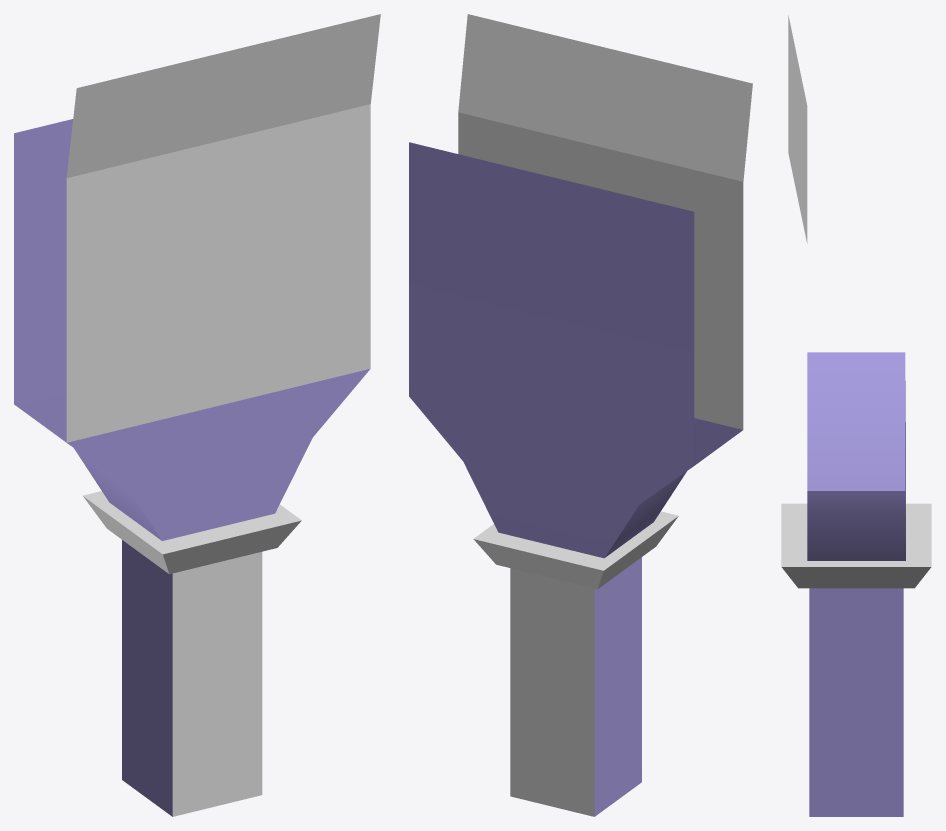
File: ArchCollider.fbx
3 views of the same model, side by side, from view 1: azimuth 30°, elevation 25°; view 2: azimuth 150°, elevation 25°; view 3: azimuth 270°, elevation 25° (orthographic). The views are drawn at different scales.
Parts seen in each view (by area): view 1: Arch Middle v2 collider; view 2: Arch Middle v2 collider; view 3: Arch Middle v2 collider.
Part boxes in pixels (x1,y1,x2,y2): Arch Middle v2 collider: (14,14,380,816); Arch Middle v2 collider: (409,14,752,816); Arch Middle v2 collider: (781,15,931,816).
Bounding box in the file's own units: 352 × 844 × 161.
